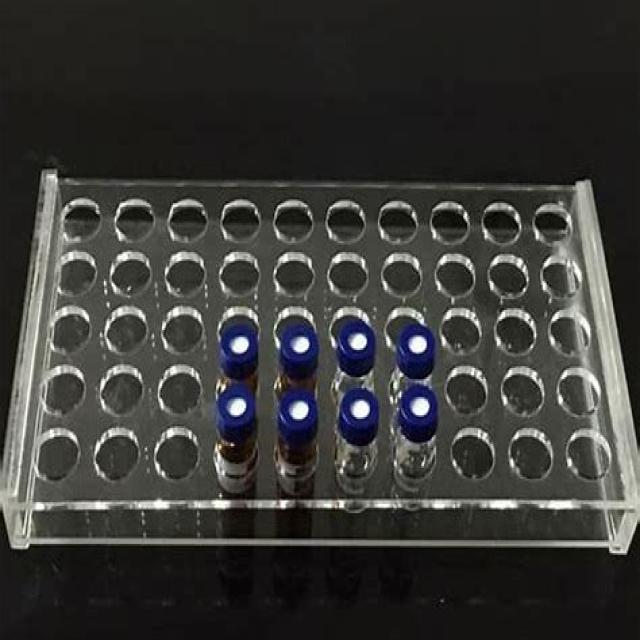vial: (280, 388, 319, 428), (402, 386, 434, 430), (402, 328, 436, 367), (277, 327, 318, 358), (343, 392, 376, 430), (224, 326, 258, 359), (221, 386, 251, 420), (343, 322, 372, 350)
